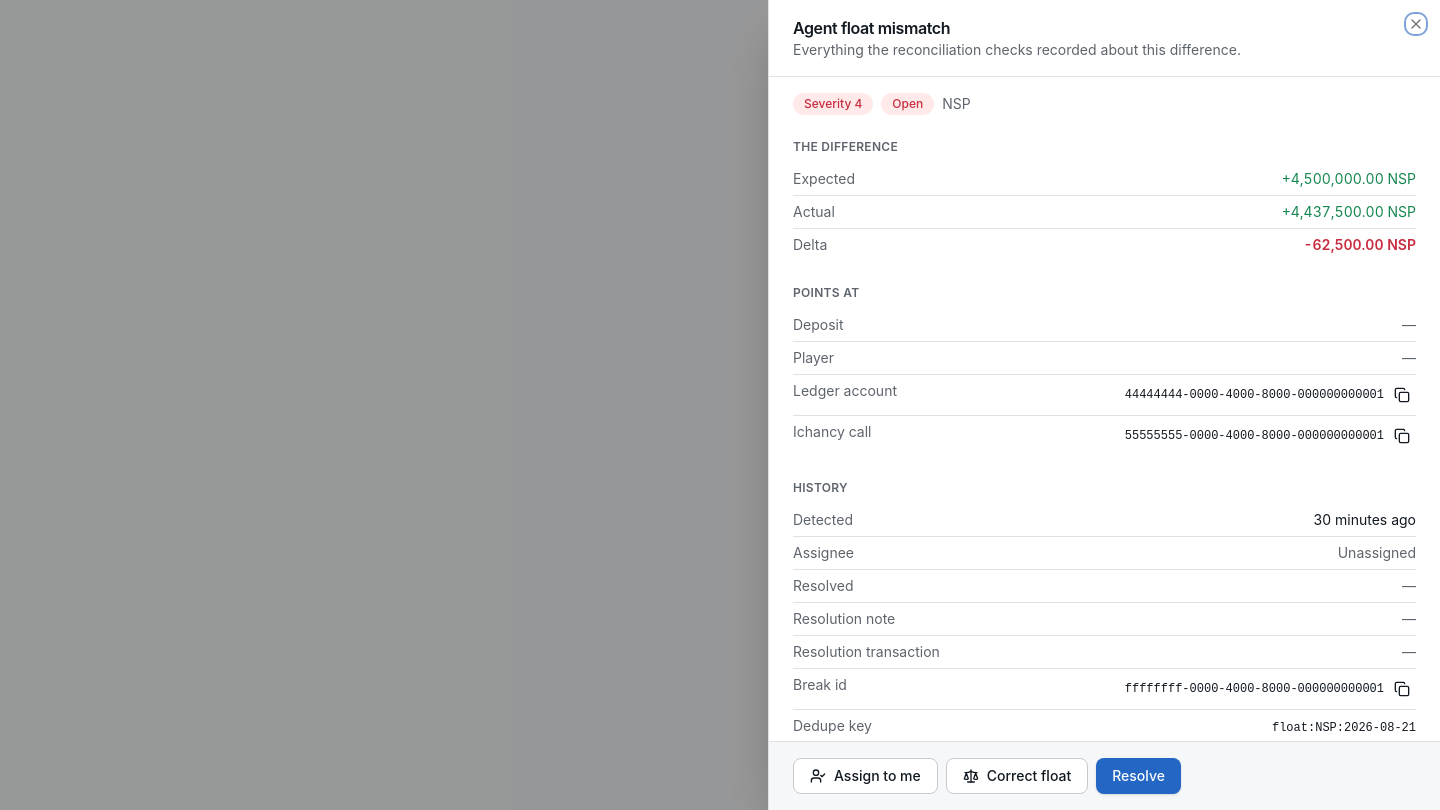
BreakDetailSheet › restates the delta, demands a reason, and shows the transaction it posted
This screenshot has width=1440, height=810.
Click the button "Correct float".
click(1017, 776)  # box left=946, top=758, right=1088, bottom=794
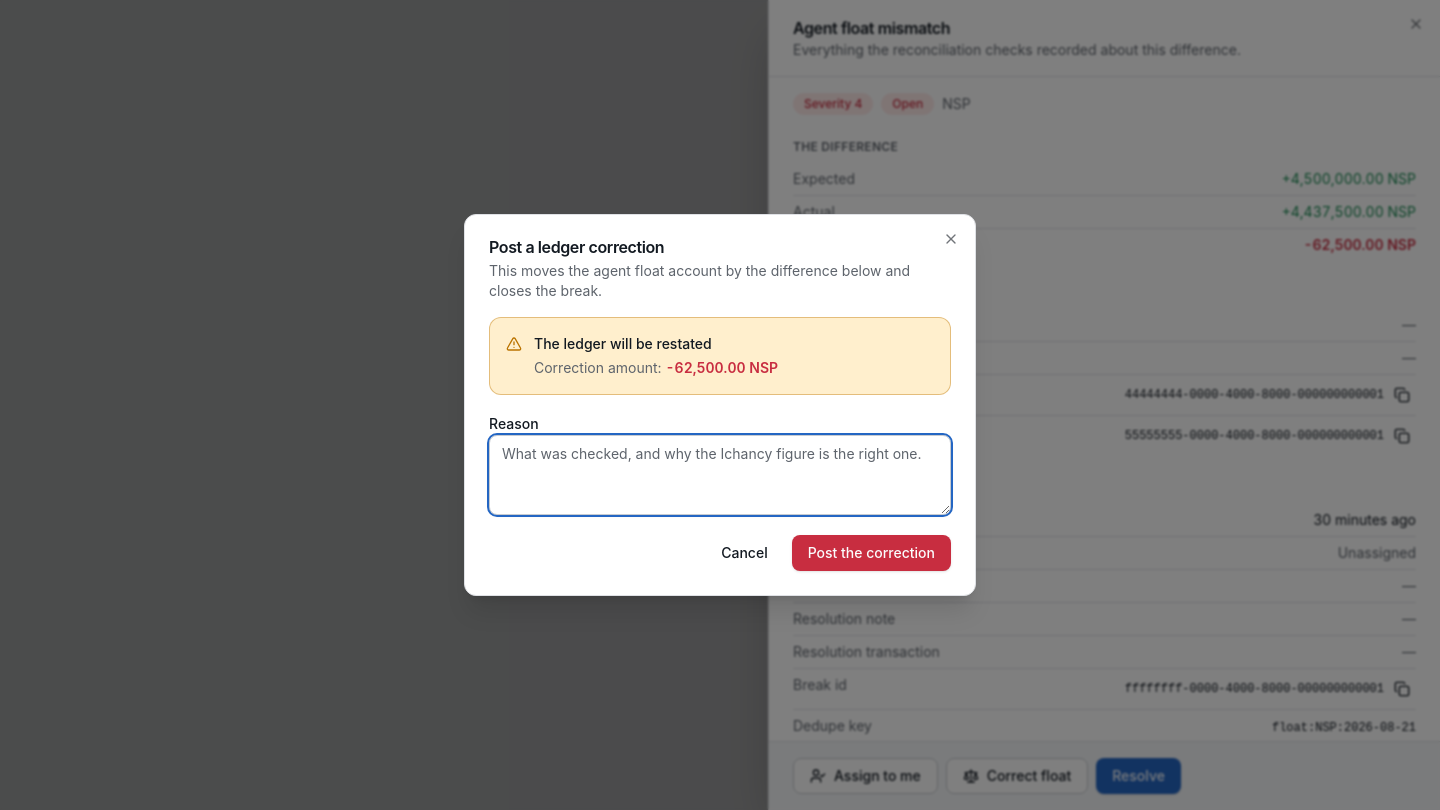
Result: the text "The ledger will be restated" is shown at left=534, top=335, right=712, bottom=352
Click the button "Post the correction".
click(871, 553)  # box left=792, top=535, right=951, bottom=571
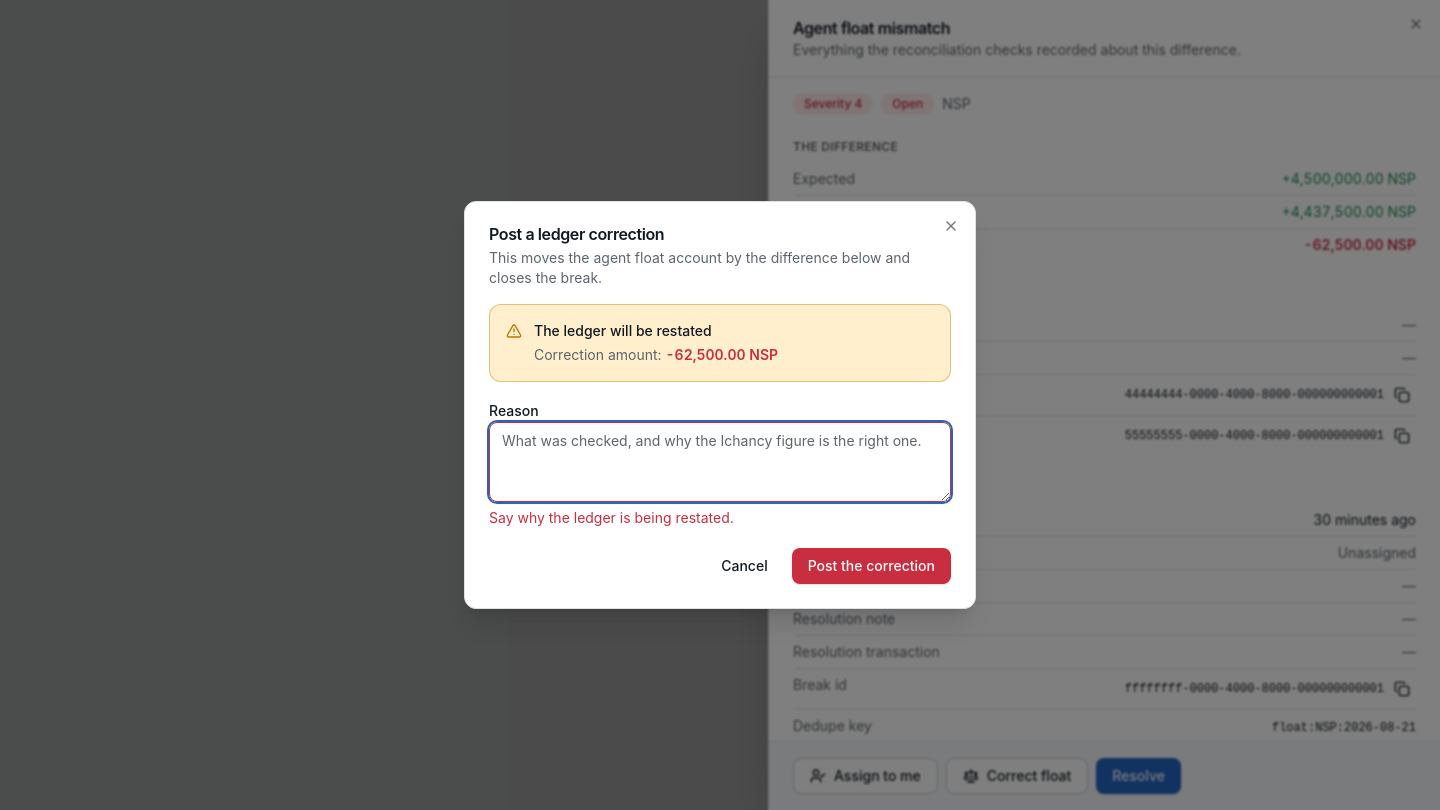
Result: the text "Say why the ledger is being restated." is shown at left=489, top=509, right=734, bottom=526
Type "Ichancy re-read twice; the ledger is behind." into the text box labelled "Reason".
click(720, 462); type("Ichancy re-read twice; the ledger is behind.")  # box left=489, top=422, right=951, bottom=502
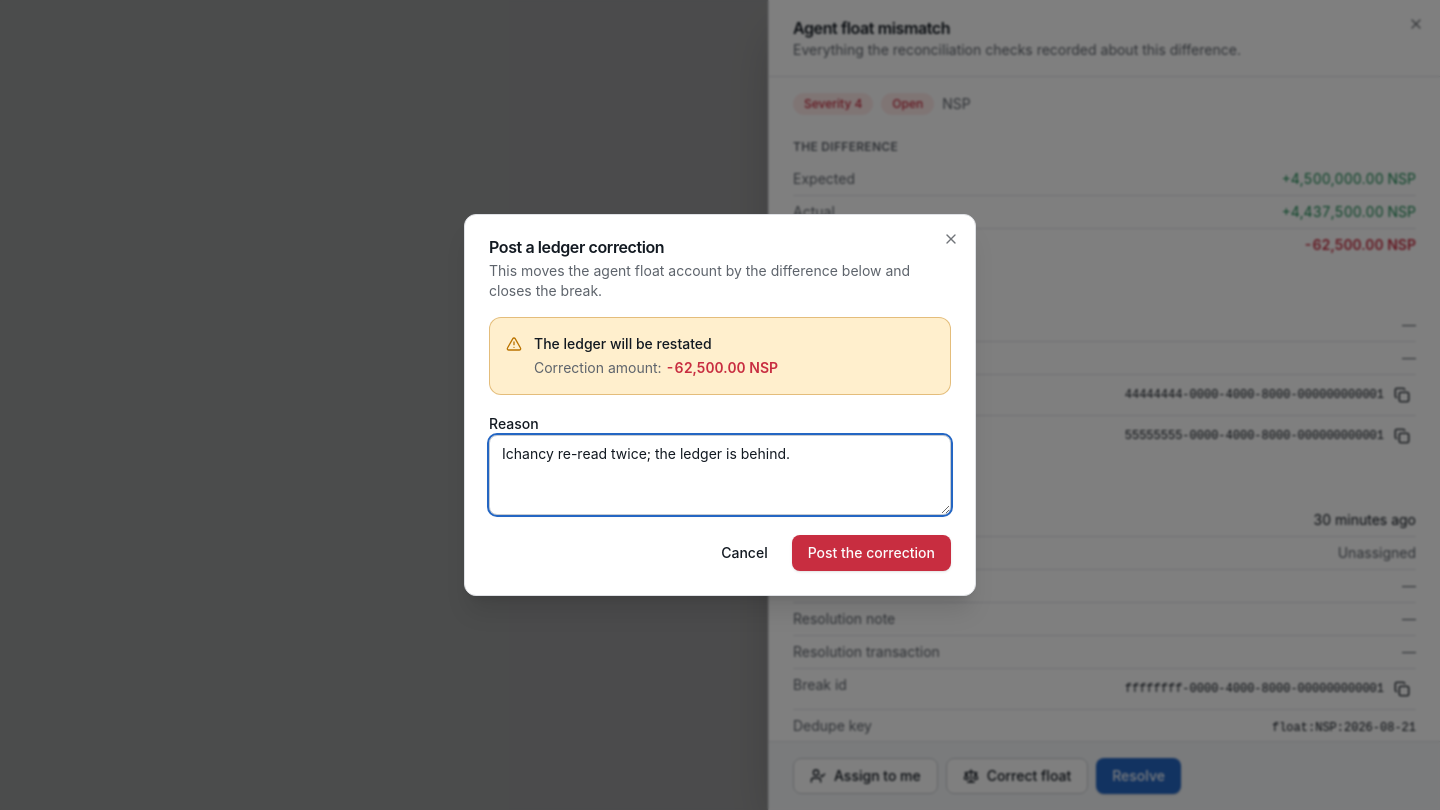
Click the button "Post the correction".
click(871, 553)  # box left=792, top=535, right=951, bottom=571
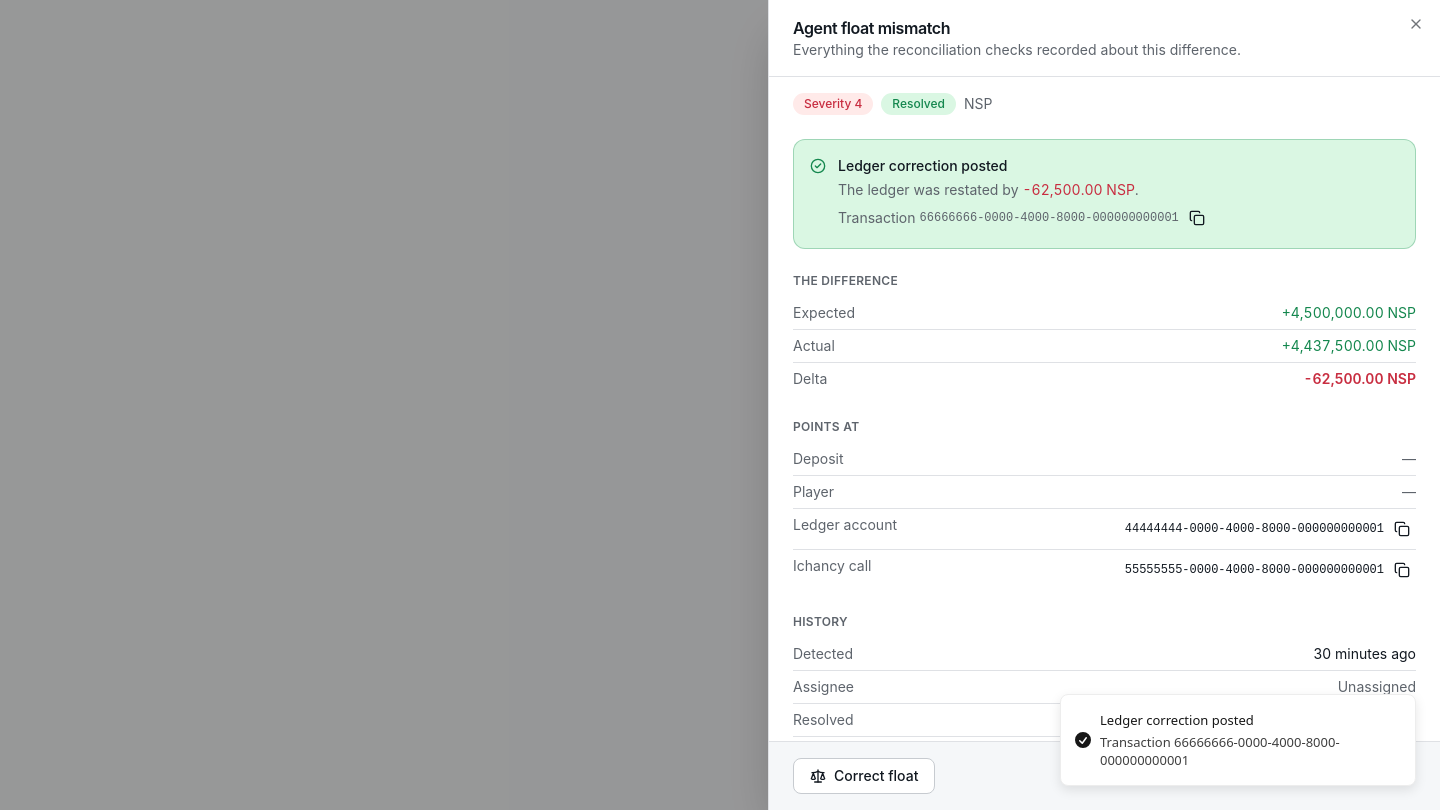
Result: the 2nd text "Ledger correction posted" is shown at left=1100, top=711, right=1254, bottom=729
Result: the text "66666666-0000-4000-8000-000000000001" is shown at left=920, top=210, right=1179, bottom=226
